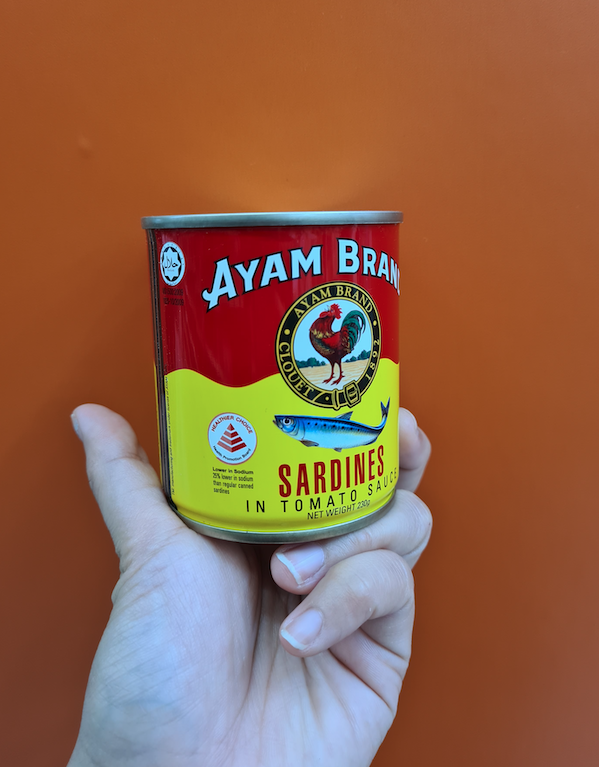Canned_Sardines_and_Mackerel: (157, 217, 401, 516)
